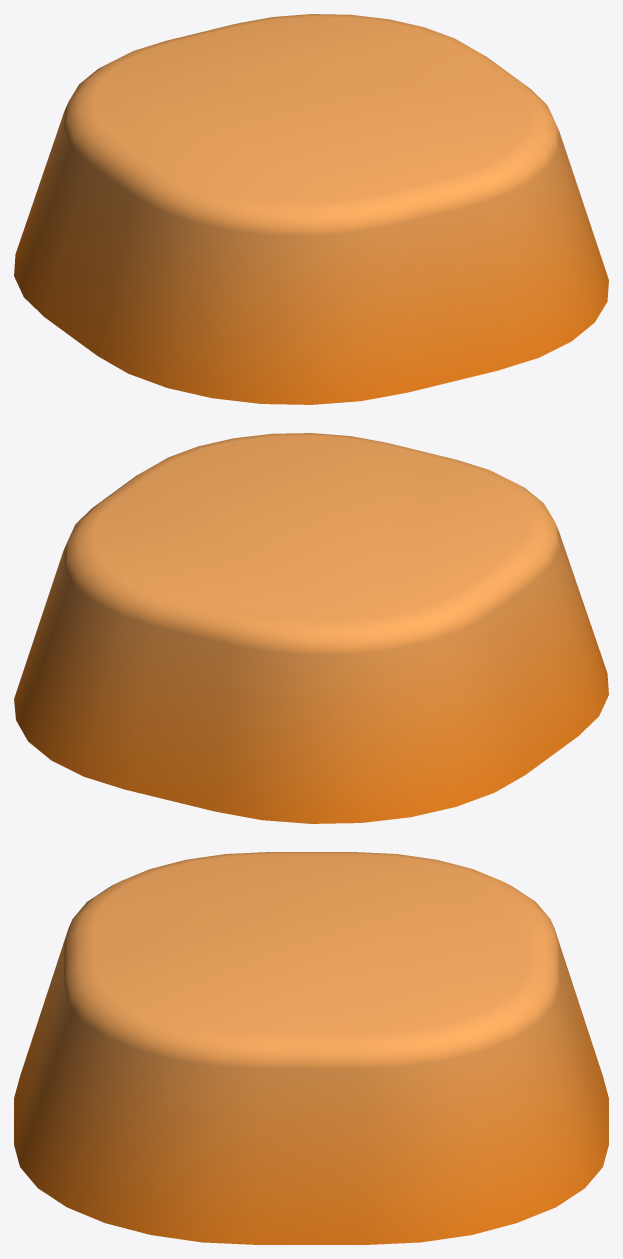
File: Rock_A_01.fbx
The picture shows the model from 3 angles, top to bottom: view 1: azimuth 30°, elevation 25°; view 2: azimuth 150°, elevation 25°; view 3: azimuth 270°, elevation 25°; orthographic projection. The views are drawn at different scales.
Parts seen in each view (by area): view 1: Rock_A_01; view 2: Rock_A_01; view 3: Rock_A_01.
Part boxes in pixels (x1,y1,x2,y2): Rock_A_01: (14, 14, 608, 404); Rock_A_01: (14, 433, 608, 823); Rock_A_01: (14, 852, 608, 1244).
Size of the model in its own units: 180 by 60.3 by 184.
